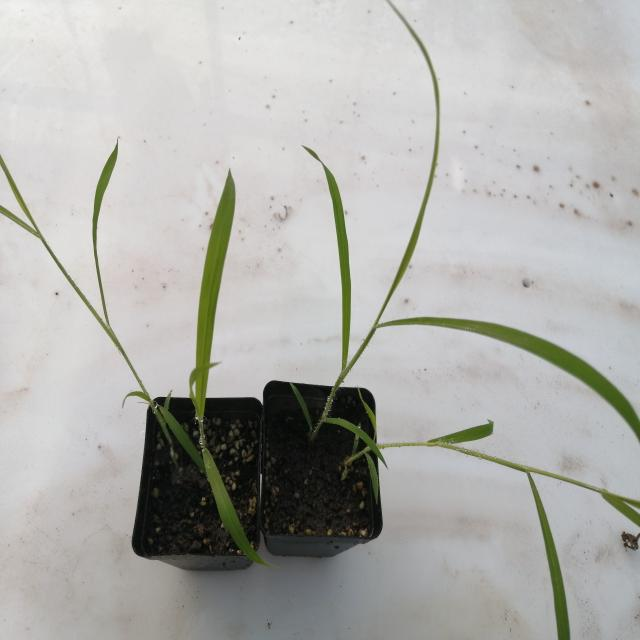crabgrass: (314, 83, 634, 451), (166, 166, 288, 545)
